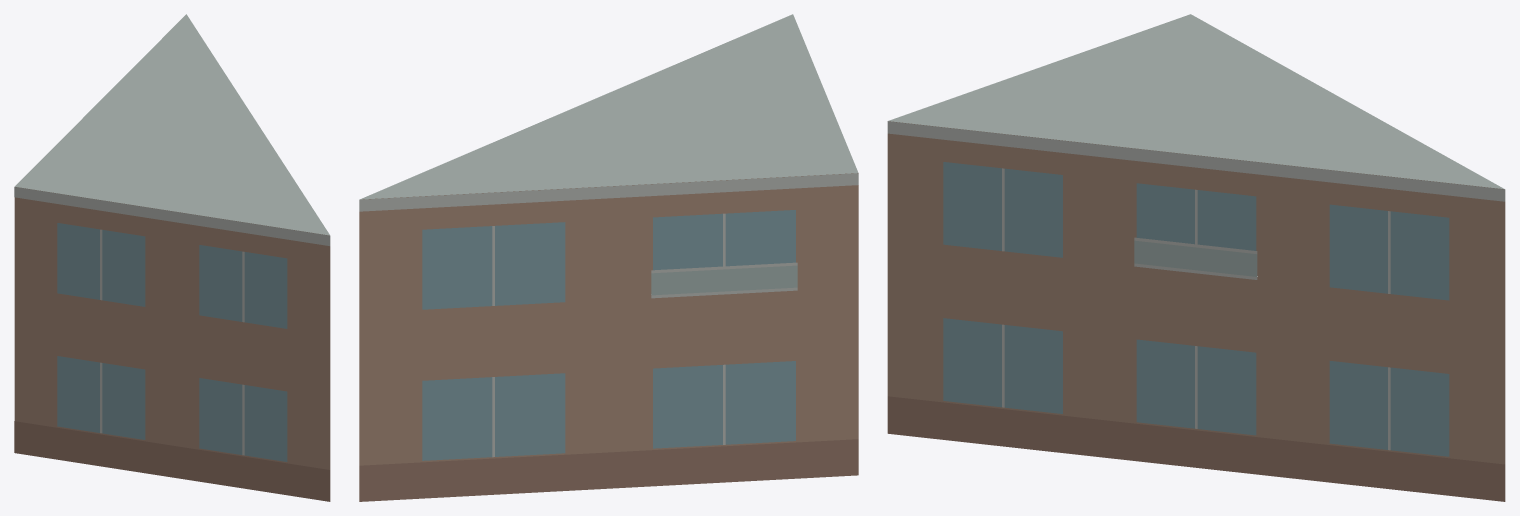
The model's file is survey-upis-32711403.glb.
The picture shows the model from 3 angles, left to right: view 1: azimuth 30°, elevation 25°; view 2: azimuth 150°, elevation 25°; view 3: azimuth 270°, elevation 25°; orthographic projection. The views are drawn at different scales.
Parts seen in each view (by area): view 1: survey-upis-32711403.tmp; view 2: survey-upis-32711403.tmp; view 3: survey-upis-32711403.tmp.
Boxes of the visible parts, x1=… form: survey-upis-32711403.tmp: x1=14, y1=14, x2=330, y2=501; survey-upis-32711403.tmp: x1=359, y1=14, x2=858, y2=501; survey-upis-32711403.tmp: x1=887, y1=14, x2=1505, y2=501.
Bounding box in the file's own units: 7.35 × 6.1 × 10.93.
